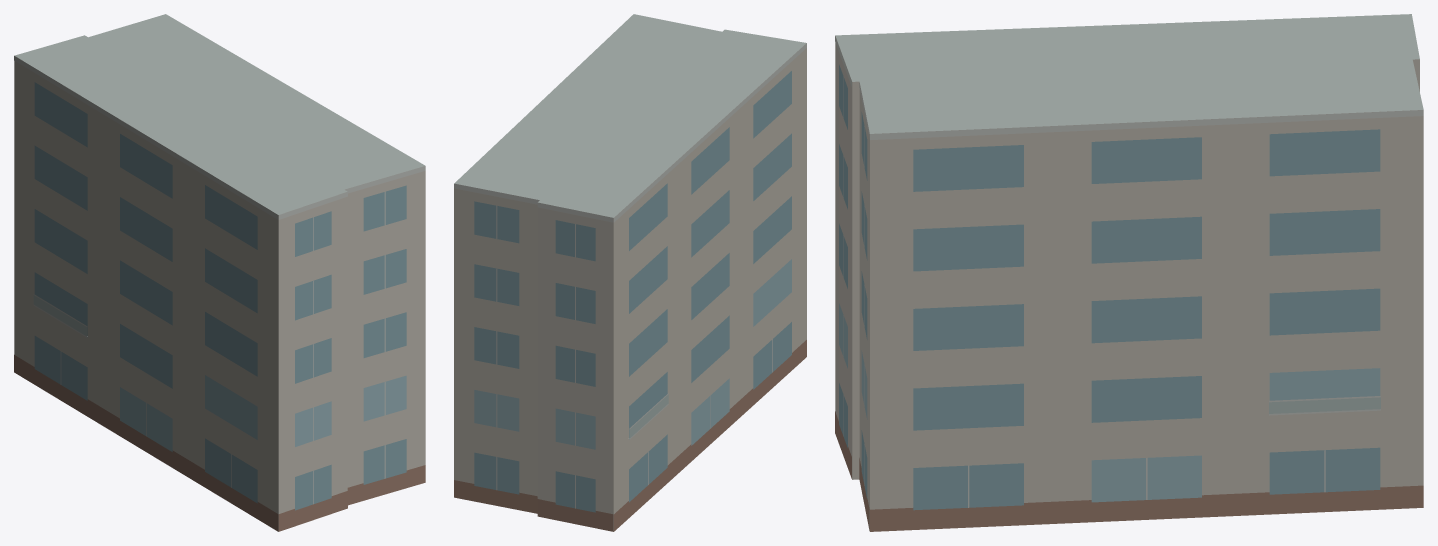
The model's file is survey-upis-32978862.glb.
3 views of the same model, side by side, from view 1: azimuth 30°, elevation 25°; view 2: azimuth 150°, elevation 25°; view 3: azimuth 270°, elevation 25° (orthographic). The views are drawn at different scales.
Parts seen in each view (by area): view 1: survey-upis-32978862.tmp; view 2: survey-upis-32978862.tmp; view 3: survey-upis-32978862.tmp.
Boxes of the visible parts, x1,y1,x2,y2 form: survey-upis-32978862.tmp: (14,14,425,531); survey-upis-32978862.tmp: (454,14,806,531); survey-upis-32978862.tmp: (835,14,1423,531).
Size of the model in its own units: 10.16 by 15.7 by 21.06.
